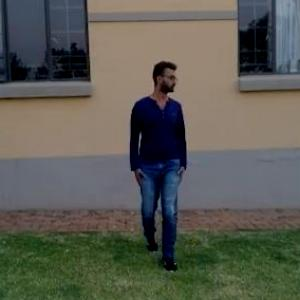follow: (123, 49, 195, 276)
